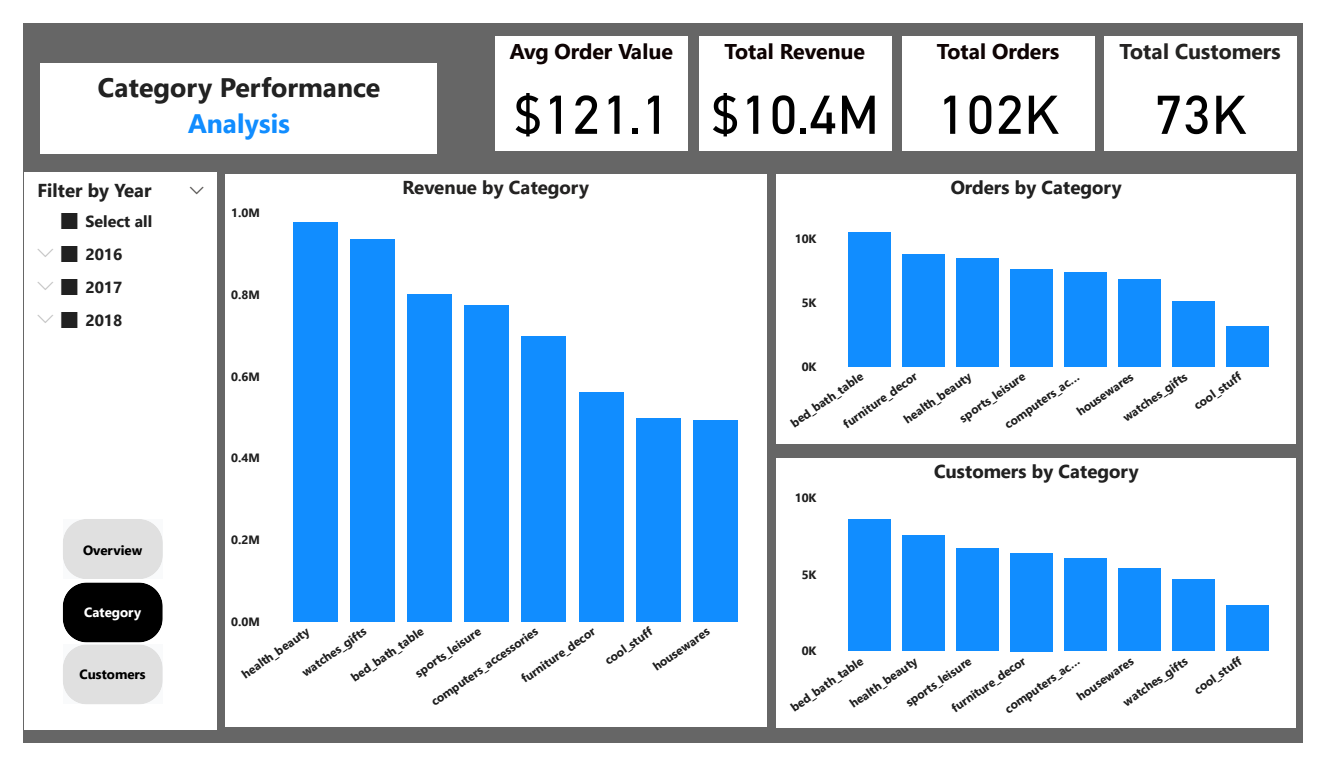

The dashboard page shown, as its layout file describes it:
{"tool":"powerbi","page":{"name":"Category","canvas":[1280,720],"ordinal":1},"visuals":[{"type":"clusteredColumnChart","title":"Revenue by Category","fields":{"Category":["Order Items Clean.product_category_name_english"],"Y":["Sum(Order Items Clean.item_revenue)"]},"box":[201.9,151,542,553.1],"z":0},{"type":"clusteredColumnChart","title":"Orders by Category","fields":{"Category":["Order Items Clean.product_category_name_english"],"Y":["Sum(Order Items Clean.order_item_id)"]},"box":[753.4,151,519.7,270.2],"z":1000},{"type":"clusteredColumnChart","title":"Customers by Category","fields":{"Category":["Order Items Clean.product_category_name_english"],"Y":["CountNonNull(Order Items Clean.customer_unique_id)"]},"box":[753.2,436,520,270.2],"z":2000},{"type":"textbox","box":[17.5,39.7,397.4,90.6],"z":3000},{"type":"card","title":"Avg Order Value","fields":{"Values":["Date.AOV"]},"box":[471.7,13,192.5,114.9],"z":4000},{"type":"card","title":"Total Revenue","fields":{"Values":["Order Items Clean.Neww Total Revenue"]},"box":[674.9,13,192.5,114.9],"z":5000},{"type":"card","title":"Total Orders","fields":{"Values":["Sum(Order Items Clean.order_item_id)"]},"box":[878.2,13,192.5,114.9],"z":6000},{"type":"card","title":"Total Customers","fields":{"Values":["Date.Total Customers"]},"box":[1081.5,12.8,193,115],"z":7000},{"type":"shape","box":[1.6,149.1,192.3,557.9],"z":8000},{"type":"slicer","fields":{"Values":["Date.Year","Order Items Clean.product_category_name_english","Date.Month"]},"box":[1.6,149.1,192.3,230.5],"z":9000},{"type":"shape","box":[40.3,495.6,100.1,60.4],"z":10000},{"type":"shape","box":[40.3,558.9,100,60],"z":11000},{"type":"shape","box":[40.3,621.7,100,60],"z":12000}]}

Visuals, with their boxes in screenshot pixels (x1, y1, x2, y2), scaled from the page's 1280x720 canvas onto the 1326x766 screenshot:
"Revenue by Category" clusteredColumnChart: locate(209, 161, 771, 749)
"Orders by Category" clusteredColumnChart: locate(780, 161, 1319, 448)
"Customers by Category" clusteredColumnChart: locate(780, 464, 1319, 751)
textbox: locate(18, 42, 430, 139)
"Avg Order Value" card: locate(489, 14, 688, 136)
"Total Revenue" card: locate(699, 14, 899, 136)
"Total Orders" card: locate(910, 14, 1109, 136)
"Total Customers" card: locate(1120, 14, 1320, 136)
shape: locate(2, 159, 201, 752)
slicer - Date.Year x Order Items Clean.product_category_name_english: locate(2, 159, 201, 404)
shape: locate(42, 527, 145, 592)
shape: locate(42, 595, 145, 658)
shape: locate(42, 661, 145, 725)
